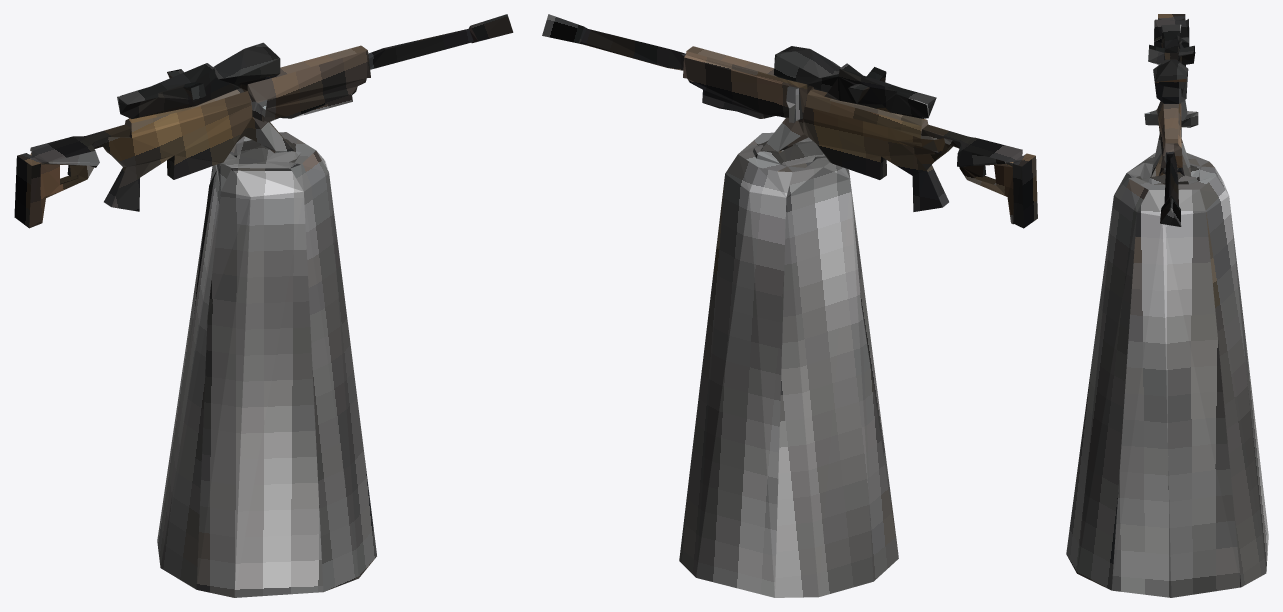
Rendered from rifle_tower.glb.
The picture shows the model from 3 angles, left to right: view 1: azimuth 30°, elevation 25°; view 2: azimuth 150°, elevation 25°; view 3: azimuth 270°, elevation 25°; orthographic projection. The views are drawn at different scales.
Parts seen in each view (by area): view 1: geometry_0; view 2: geometry_0; view 3: geometry_0.
Part boxes in pixels (x1,y1,x2,y2): geometry_0: [14, 14, 513, 597]; geometry_0: [542, 14, 1037, 597]; geometry_0: [1066, 14, 1268, 597].
Size of the model in its own units: 0.9977 by 1 by 0.3795.
1 material, 1 textured.
